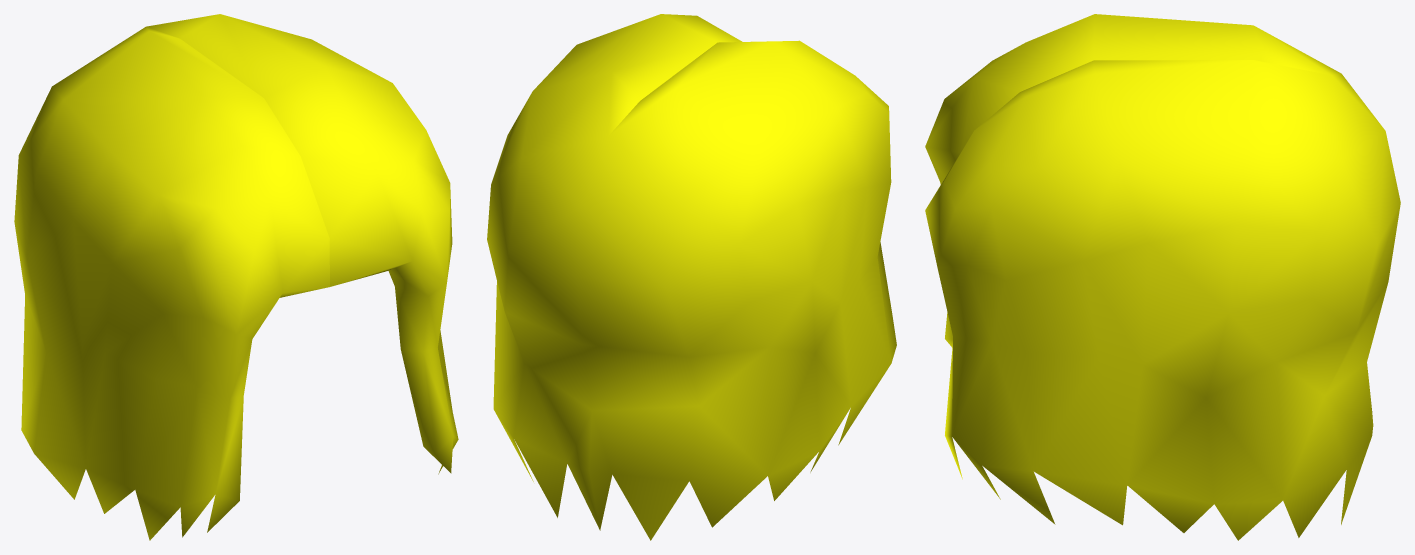
Rendered from hair_zeke2.glb.
3 views of the same model, side by side, from view 1: azimuth 30°, elevation 25°; view 2: azimuth 150°, elevation 25°; view 3: azimuth 270°, elevation 25° (orthographic). The views are drawn at different scales.
Visible parts, largest first — view 1: hair_zekepaths; view 2: hair_zekepaths; view 3: hair_zekepaths.
Part boxes in pixels (<box>): hair_zekepaths: <box>14,14,458,540</box>; hair_zekepaths: <box>487,14,896,540</box>; hair_zekepaths: <box>925,14,1400,540</box>.
Size of the model in its own units: 0.2259 by 0.2889 by 0.2715.
Materials: 1 (1 with a texture image).
